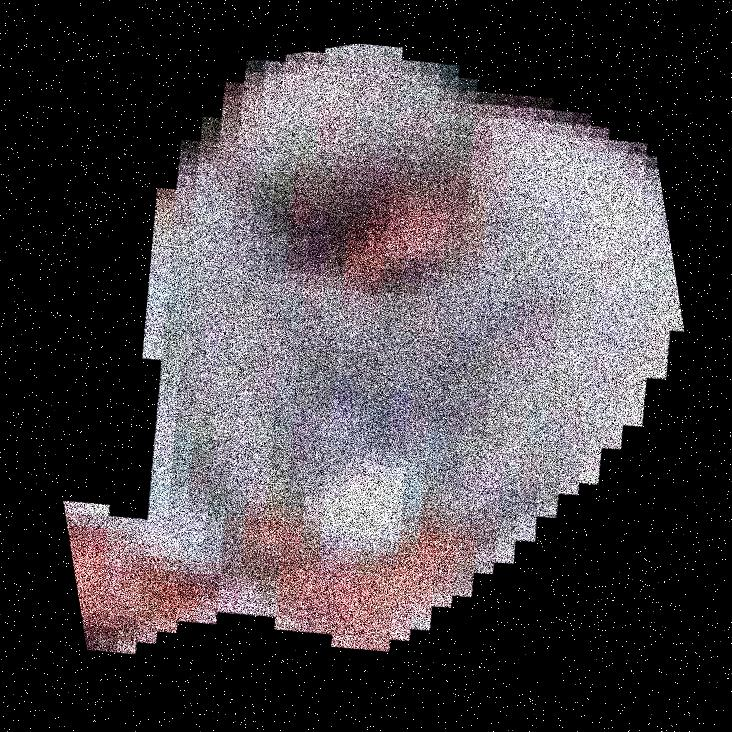Pessoa: (193, 0, 611, 731)
